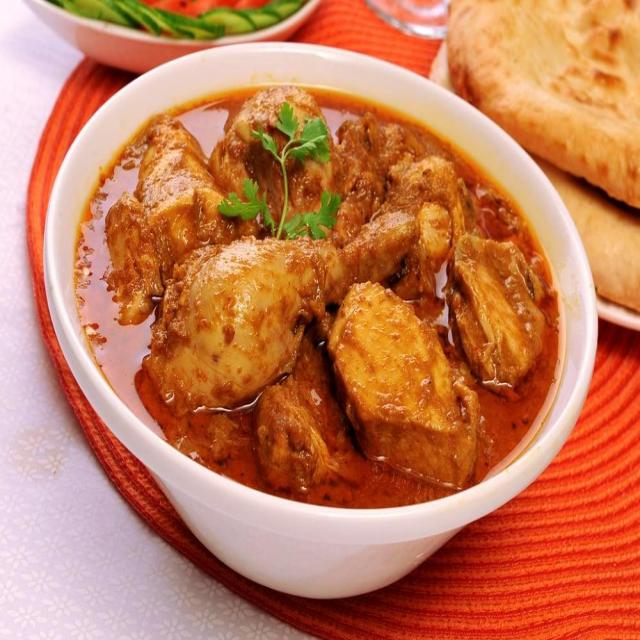chicken: (83, 61, 547, 506)
